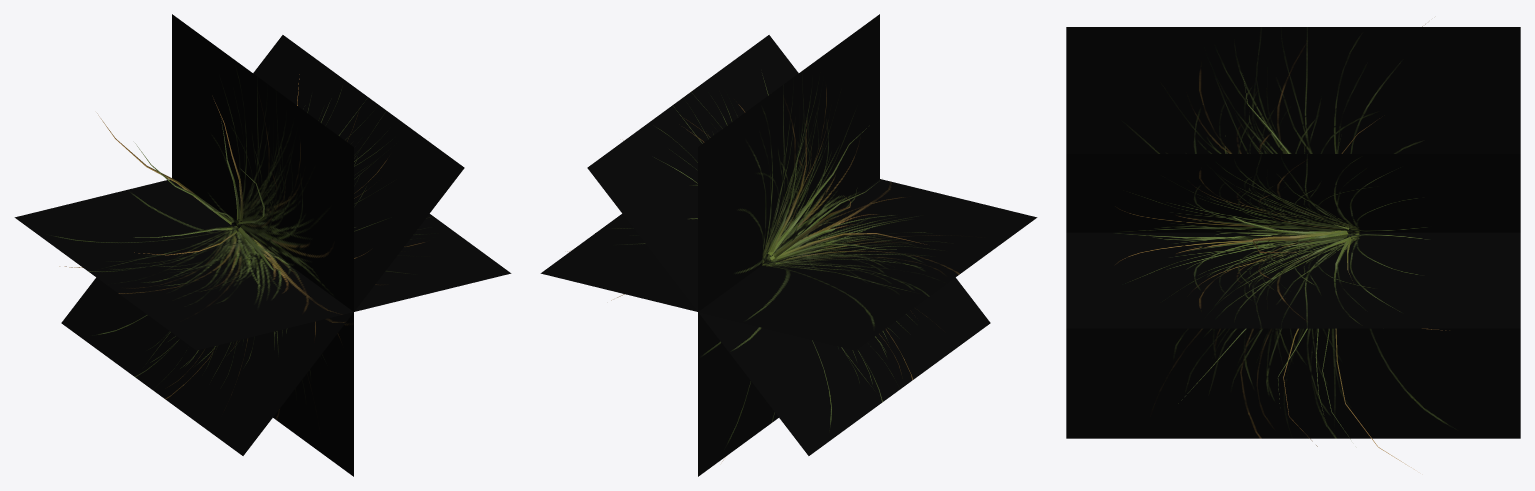
3 views of the same model, side by side, from view 1: azimuth 30°, elevation 25°; view 2: azimuth 150°, elevation 25°; view 3: azimuth 270°, elevation 25° (orthographic). The views are drawn at different scales.
Visible parts, largest first — view 1: GC23_v4; view 2: GC23_v4; view 3: GC23_v4.
Part boxes in pixels (left/top/right/bottom): GC23_v4: left=14, top=14, right=511, bottom=476; GC23_v4: left=540, top=14, right=1037, bottom=476; GC23_v4: left=1066, top=24, right=1520, bottom=469.
Size of the model in its own units: 1.79 by 1.78 by 1.66.
3 materials, 3 textured.
